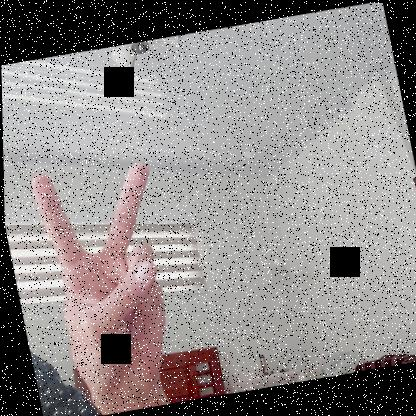V: (26, 150, 192, 405)
